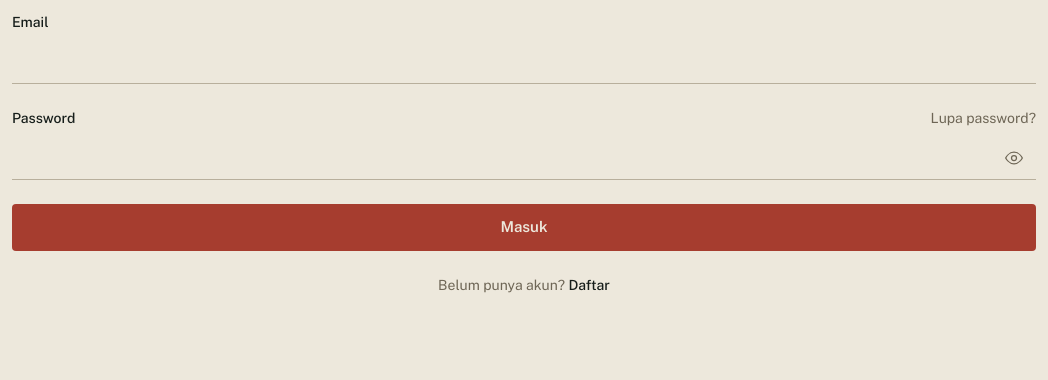
Test: LoginForm › shows backend general error (INVALID_CREDENTIALS)
In the field labelled "Email": [524, 62] box [12, 40, 1036, 84], type "a@b.com"
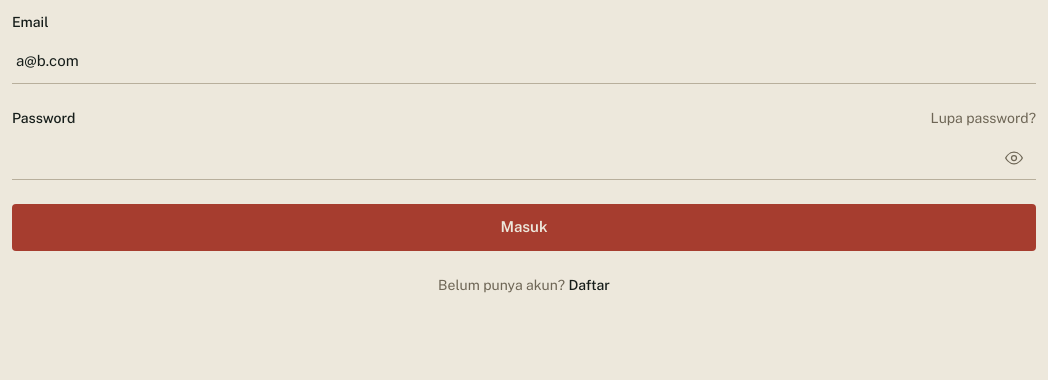
In the password field labelled "Password": [524, 158] box [12, 136, 1036, 180], type "wrong"
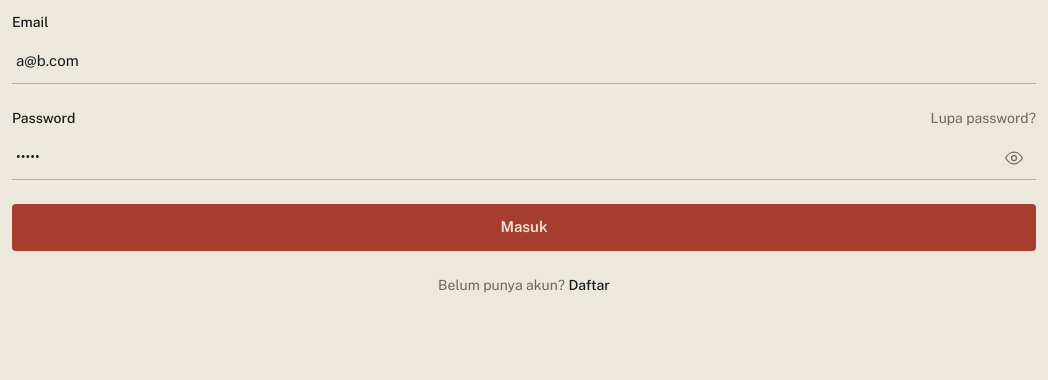
Click the button "Masuk": [524, 227] box [12, 204, 1036, 250]
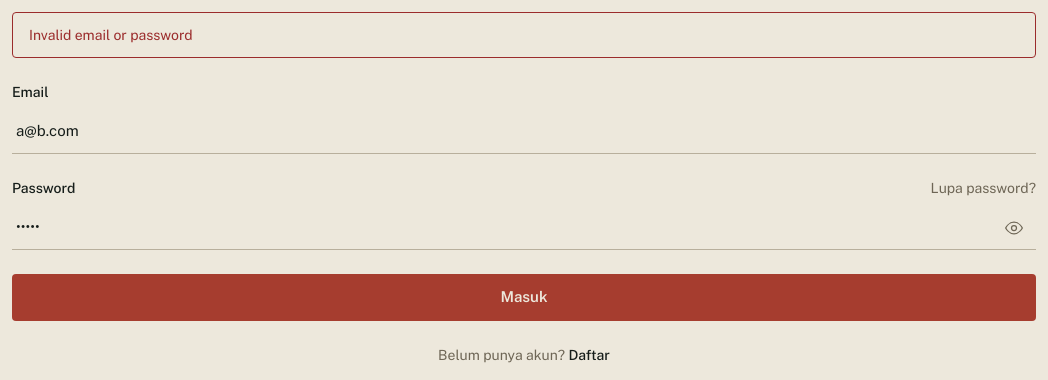
Expected: the text "Invalid email or password" is shown, [12, 12, 1036, 58]
